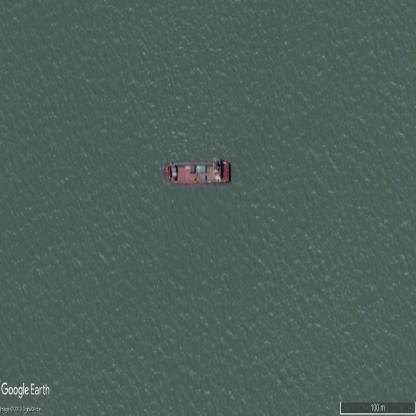ship: (163, 158, 233, 190)
